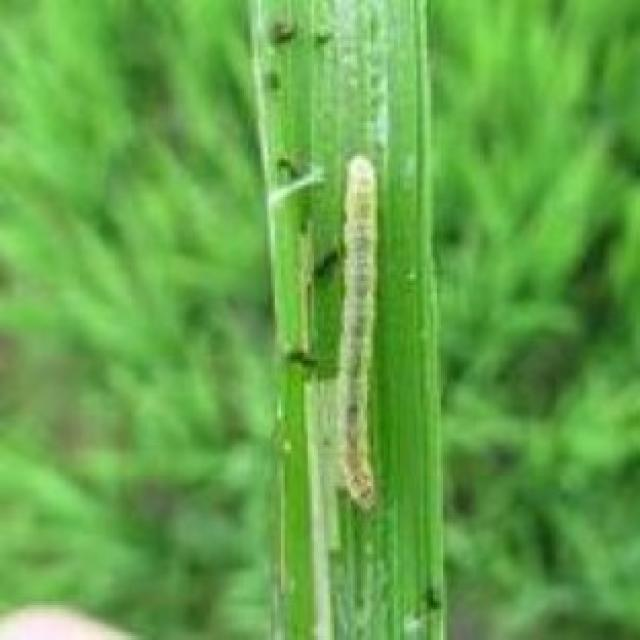rice leaf roller: (314, 154, 375, 507), (271, 158, 324, 203), (261, 16, 295, 45), (285, 347, 318, 371), (312, 23, 334, 43)
